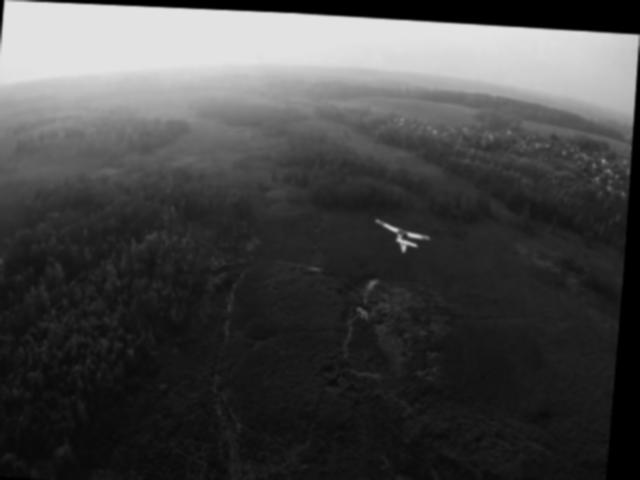hedef: (375, 209, 441, 257)
